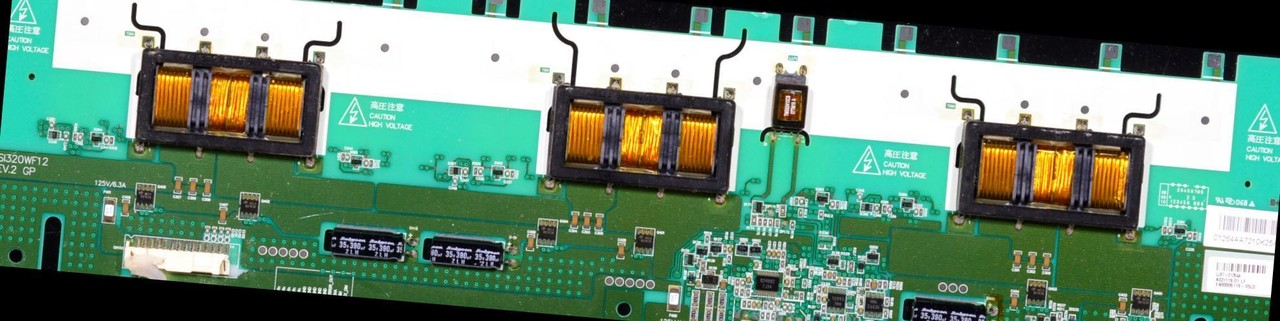Capacitor: (417, 230, 506, 273), (319, 223, 406, 264), (897, 291, 988, 320), (217, 205, 228, 223), (188, 177, 197, 196), (173, 177, 182, 195), (1027, 252, 1036, 270), (121, 199, 130, 217), (594, 213, 603, 230), (582, 212, 590, 230), (1117, 298, 1126, 314), (570, 212, 578, 229), (1042, 253, 1050, 270), (203, 180, 211, 197), (617, 242, 625, 259), (526, 234, 534, 251), (1014, 251, 1022, 267), (1009, 294, 1017, 310), (719, 278, 726, 291), (870, 279, 876, 291), (1166, 226, 1172, 236), (477, 166, 483, 176), (886, 205, 892, 215), (745, 275, 751, 285), (694, 279, 700, 288), (913, 207, 918, 217), (504, 170, 510, 178), (345, 153, 350, 162), (363, 159, 368, 168), (874, 204, 879, 213), (1187, 232, 1192, 241), (727, 245, 732, 254), (205, 226, 210, 235), (225, 228, 230, 237), (218, 228, 223, 237), (783, 291, 788, 300), (756, 301, 761, 310), (775, 250, 780, 258), (827, 271, 832, 279), (836, 277, 841, 285), (212, 227, 217, 235), (858, 307, 863, 315), (771, 249, 775, 258), (821, 295, 825, 304), (452, 177, 457, 184), (857, 193, 861, 201), (104, 136, 108, 144), (462, 168, 466, 176), (766, 250, 770, 258), (752, 300, 756, 308), (754, 259, 757, 269), (785, 277, 788, 286), (823, 286, 826, 295), (830, 315, 835, 320), (775, 299, 778, 306), (1119, 318, 1125, 320)
Connector: (121, 235, 232, 279)
IC: (863, 291, 885, 319), (825, 286, 846, 315)
Resistor: (705, 291, 714, 307), (717, 293, 726, 309), (691, 291, 698, 307), (715, 309, 725, 320), (703, 308, 712, 320), (690, 307, 698, 320), (779, 204, 786, 217), (750, 213, 757, 226), (848, 260, 854, 272), (700, 260, 706, 271), (108, 135, 114, 145), (918, 207, 924, 217), (840, 260, 846, 269), (877, 280, 883, 289), (802, 278, 808, 287), (739, 288, 745, 297), (818, 209, 823, 219), (808, 269, 813, 279), (821, 304, 826, 314), (510, 170, 515, 179), (774, 219, 779, 228), (790, 278, 795, 287), (745, 289, 750, 298), (815, 295, 820, 304), (726, 255, 731, 263), (734, 278, 739, 286), (858, 297, 863, 305), (768, 302, 773, 310), (746, 300, 751, 308), (760, 311, 765, 319), (770, 313, 775, 321), (473, 167, 477, 176), (882, 204, 886, 213), (1192, 233, 1196, 242), (768, 218, 772, 227), (790, 220, 794, 229), (822, 270, 826, 279), (832, 271, 836, 280), (883, 280, 887, 289), (846, 277, 850, 286), (817, 285, 821, 294), (1057, 312, 1061, 321), (884, 297, 888, 306), (799, 291, 803, 300), (734, 287, 738, 296), (883, 309, 887, 318), (783, 303, 787, 312), (765, 311, 769, 320), (340, 153, 345, 160), (757, 219, 762, 226), (740, 279, 745, 286), (368, 159, 372, 167), (798, 208, 802, 216), (785, 267, 789, 275), (841, 277, 845, 285), (788, 304, 792, 312), (742, 300, 746, 308), (781, 251, 785, 258), (779, 260, 783, 267), (763, 302, 767, 309), (1162, 226, 1165, 235), (763, 217, 766, 226), (838, 315, 843, 320), (705, 236, 708, 244), (723, 245, 726, 253), (865, 279, 868, 287), (1030, 316, 1035, 320), (1043, 317, 1048, 320), (1150, 318, 1155, 320), (1061, 318, 1066, 320)
Transistor/Diode: (134, 182, 157, 212), (237, 192, 259, 222), (535, 219, 557, 248), (633, 228, 655, 256), (1026, 279, 1046, 307), (1130, 291, 1151, 316)
